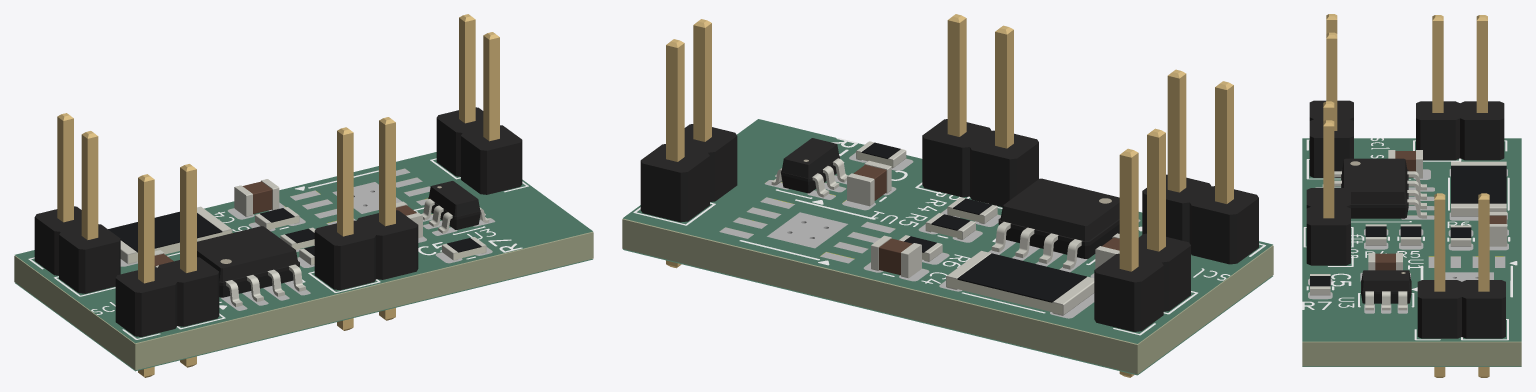
File: board.glb
3 renders of one model, left to right at view 1: azimuth 30°, elevation 25°; view 2: azimuth 150°, elevation 25°; view 3: azimuth 270°, elevation 25°, orthographic. The views are drawn at different scales.
Parts seen in each view (by area): view 1: =>[0:1:1:3]; view 2: =>[0:1:1:3]; view 3: =>[0:1:1:3].
Part boxes in pixels (x1,y1,x2,y2): =>[0:1:1:3]: (14, 14, 593, 377); =>[0:1:1:3]: (622, 14, 1273, 377); =>[0:1:1:3]: (1302, 14, 1521, 377).
Size of the model in its own units: 0.0276 by 0.0115 by 0.0126.
Materials: 1 (1 with a texture image).
